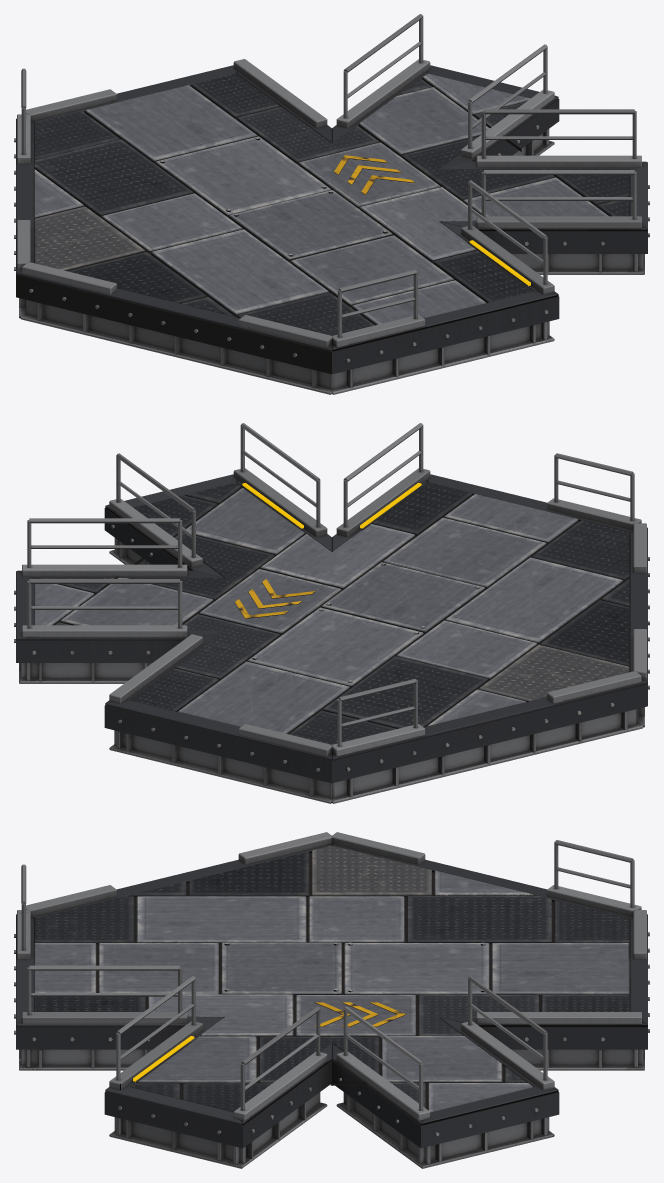
Rendered from nodexeus-set-deck-m4.glb.
3 views of the same model, one above another, from view 1: azimuth 30°, elevation 25°; view 2: azimuth 150°, elevation 25°; view 3: azimuth 270°, elevation 25° (orthographic).
Parts seen in each view (by area): view 1: set-deck-m4; view 2: set-deck-m4; view 3: set-deck-m4.
Part boxes in pixels (<box>): set-deck-m4: <box>14,14,649,394</box>; set-deck-m4: <box>14,423,649,803</box>; set-deck-m4: <box>14,832,649,1168</box>.
Size of the model in its own units: 11.05 by 1.84 by 10.35.
Materials: 1 (1 with a texture image).
